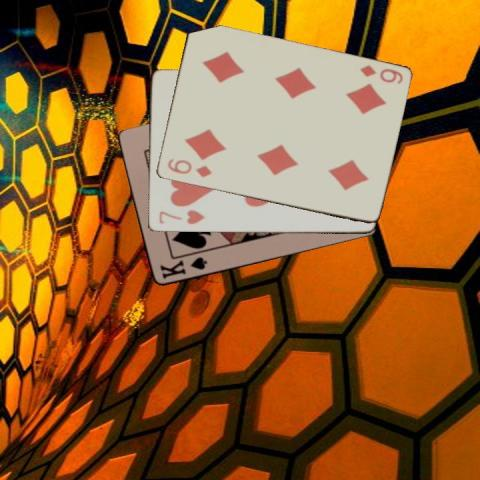6d: (164, 155, 213, 180), (357, 62, 404, 85)
7h: (156, 207, 206, 226)
Ks: (157, 254, 208, 281)
